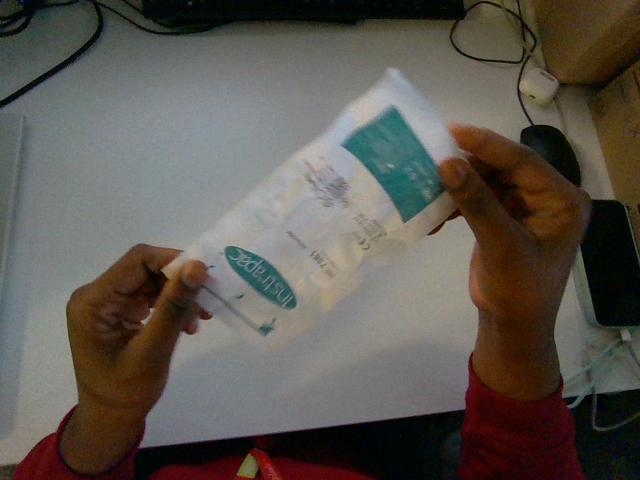gallipot: (164, 69, 459, 346)
